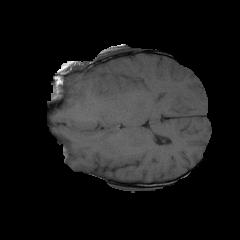glioma: (68, 71, 120, 122)
